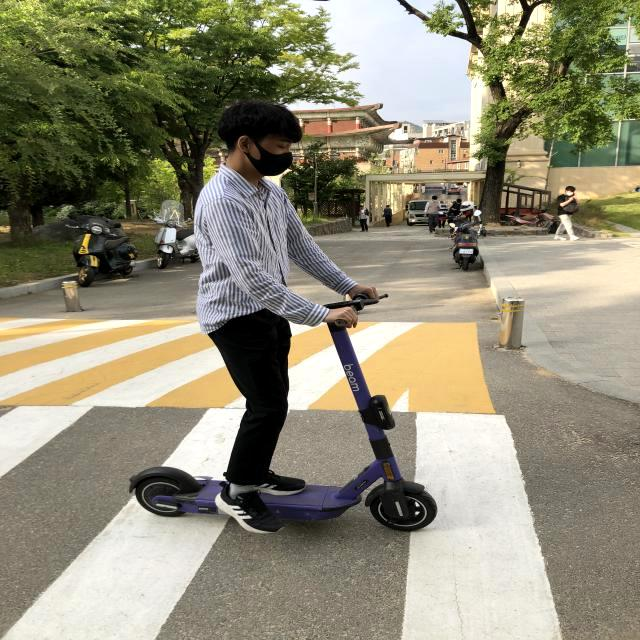bare_head: (203, 97, 306, 176)
human: (180, 73, 319, 508)
kickboard: (126, 441, 456, 584)
